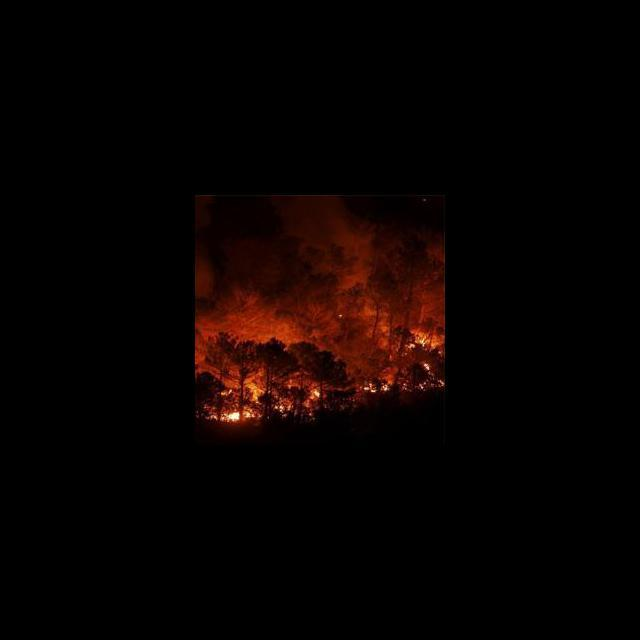Fire: (366, 325, 443, 397), (207, 408, 245, 425), (312, 386, 326, 400)
